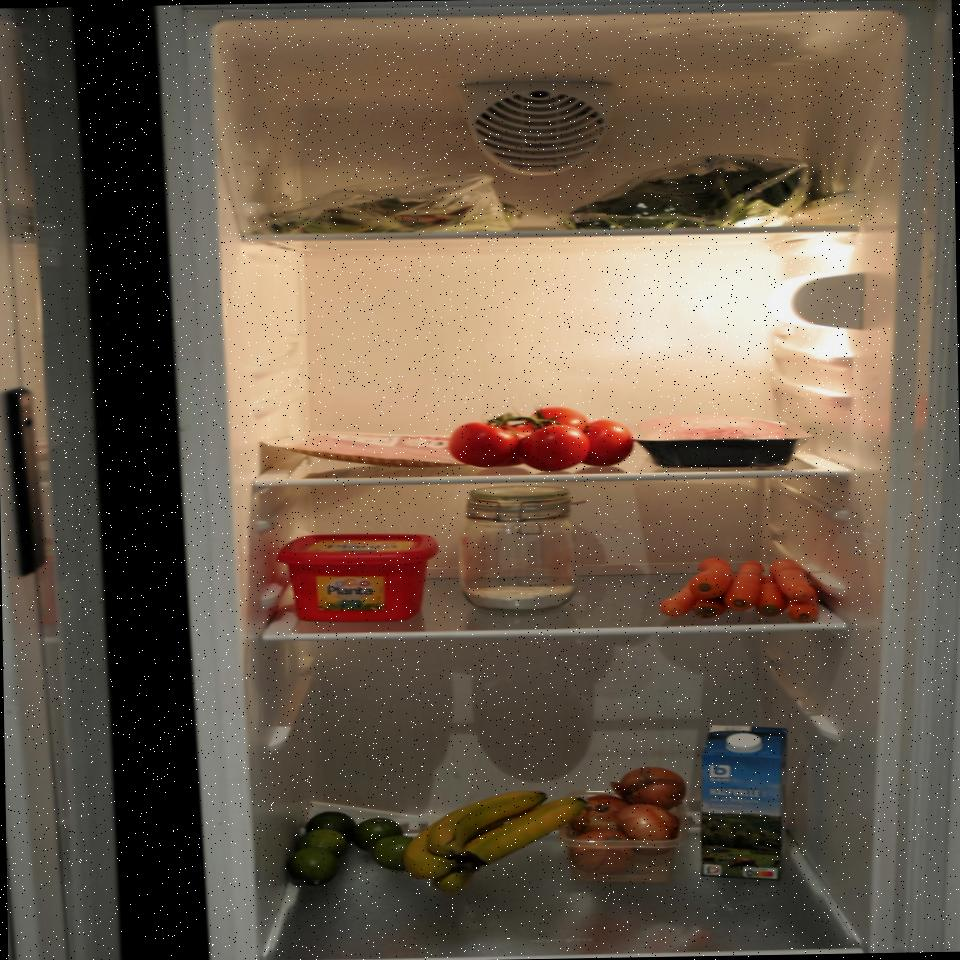Leche: (700, 718, 796, 888)
Mantequilla: (273, 530, 441, 624)
Plátano: (402, 788, 591, 896)
Tomate: (446, 402, 638, 472)
Zanahoria: (656, 551, 828, 626)
